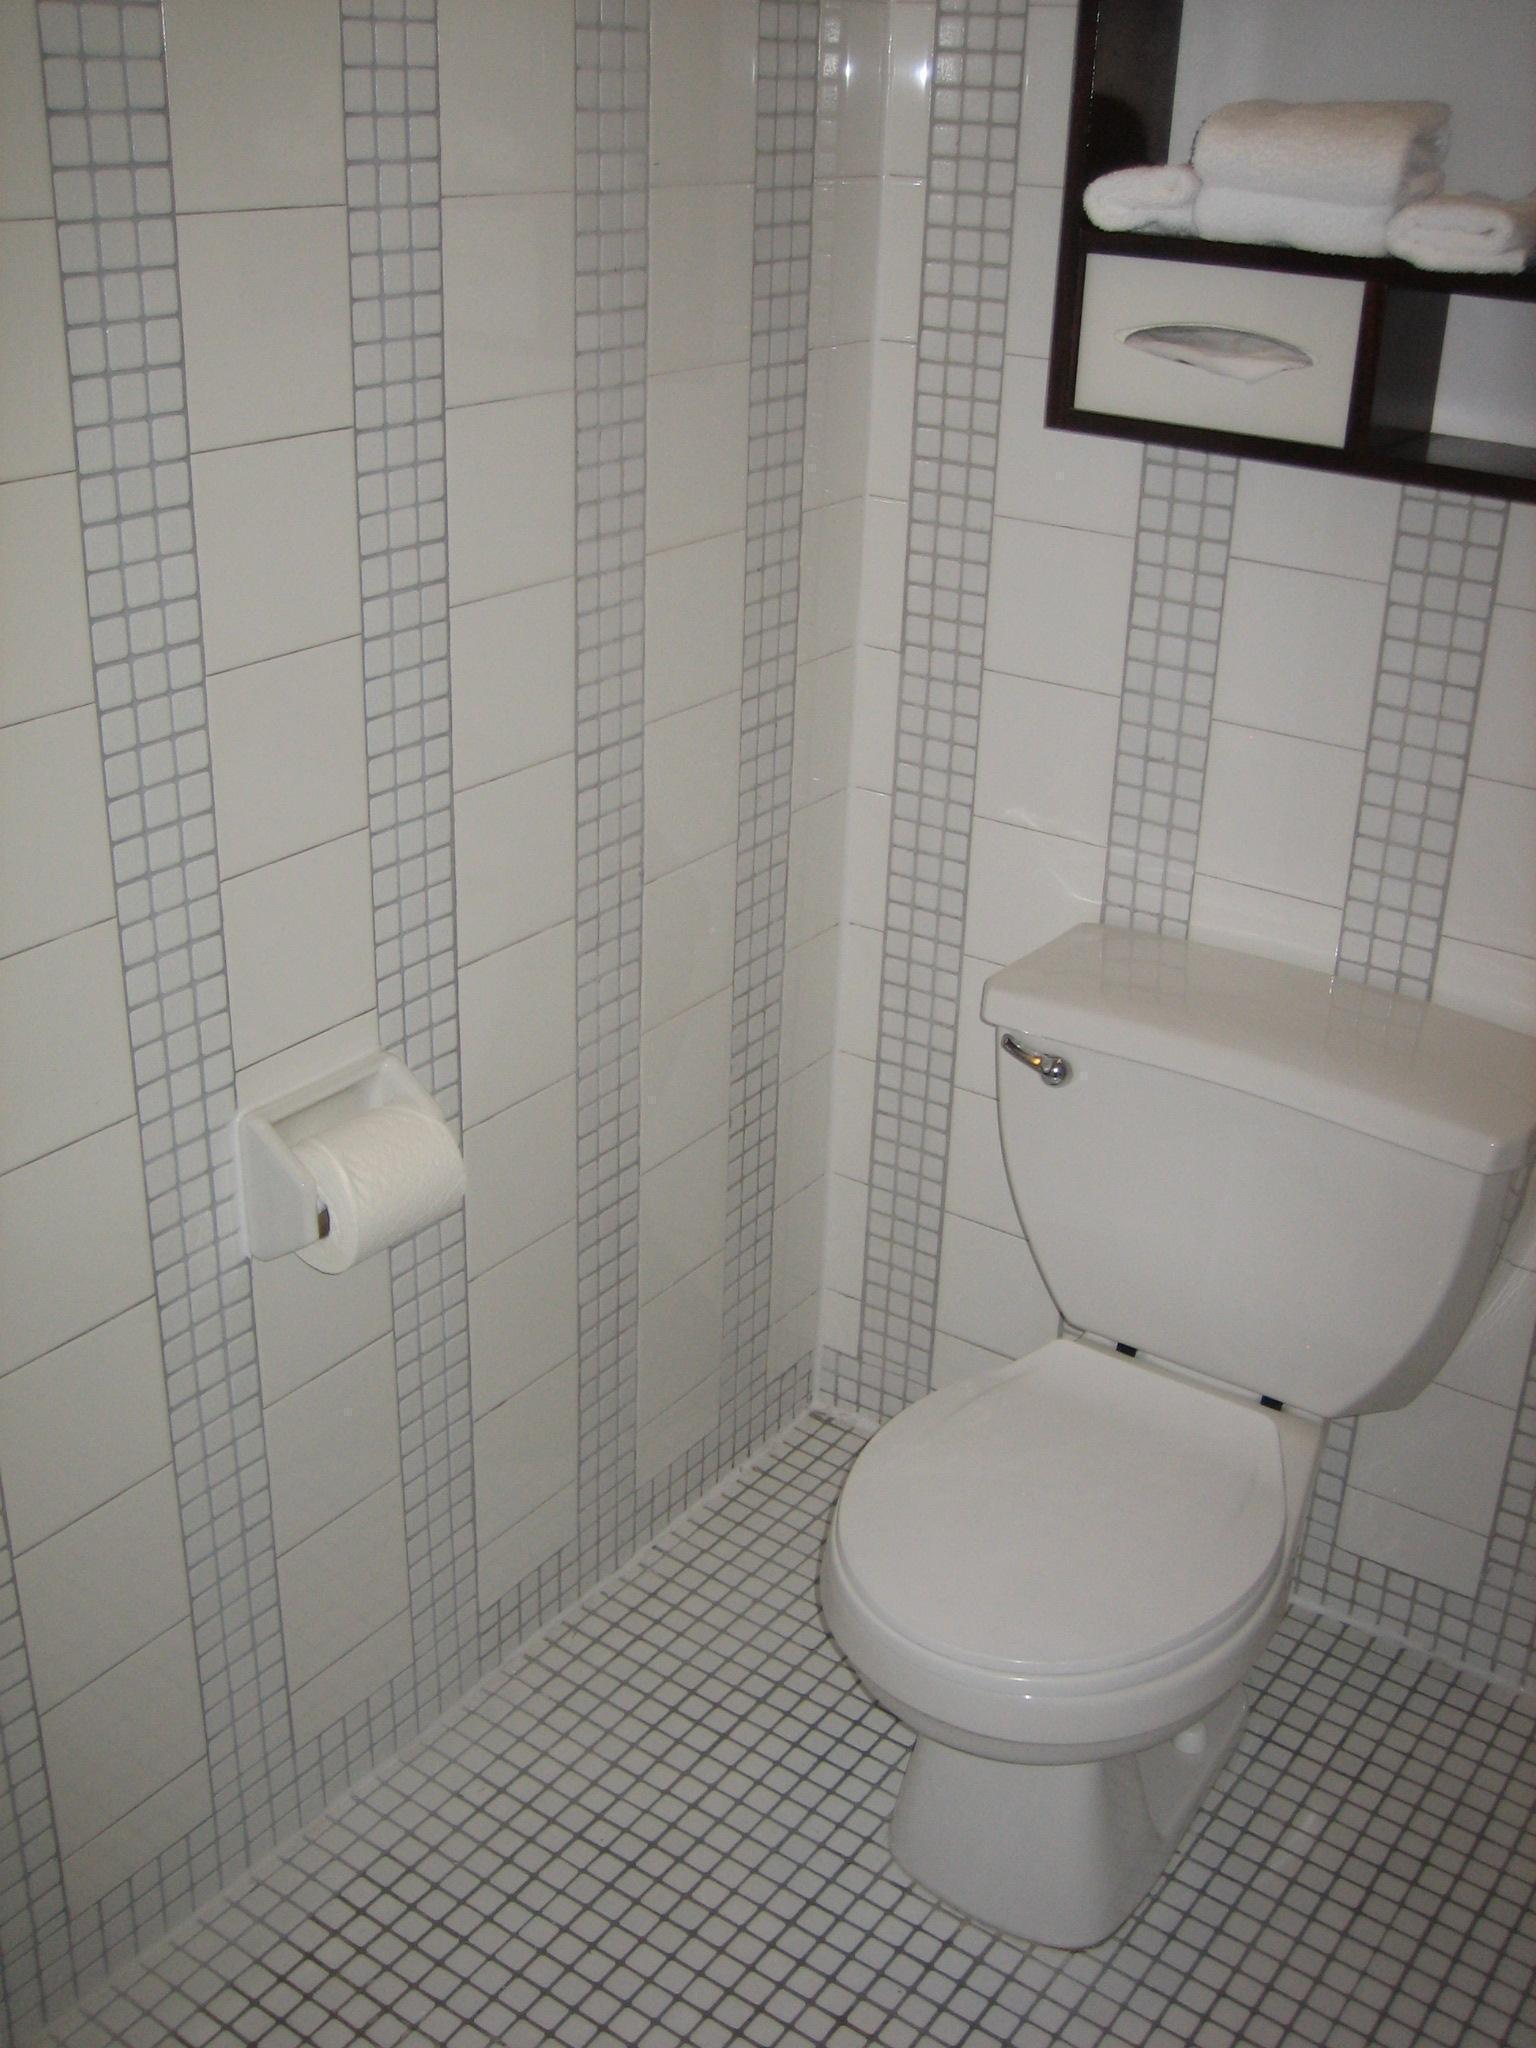Sanitario: (807, 974, 1526, 1963)
